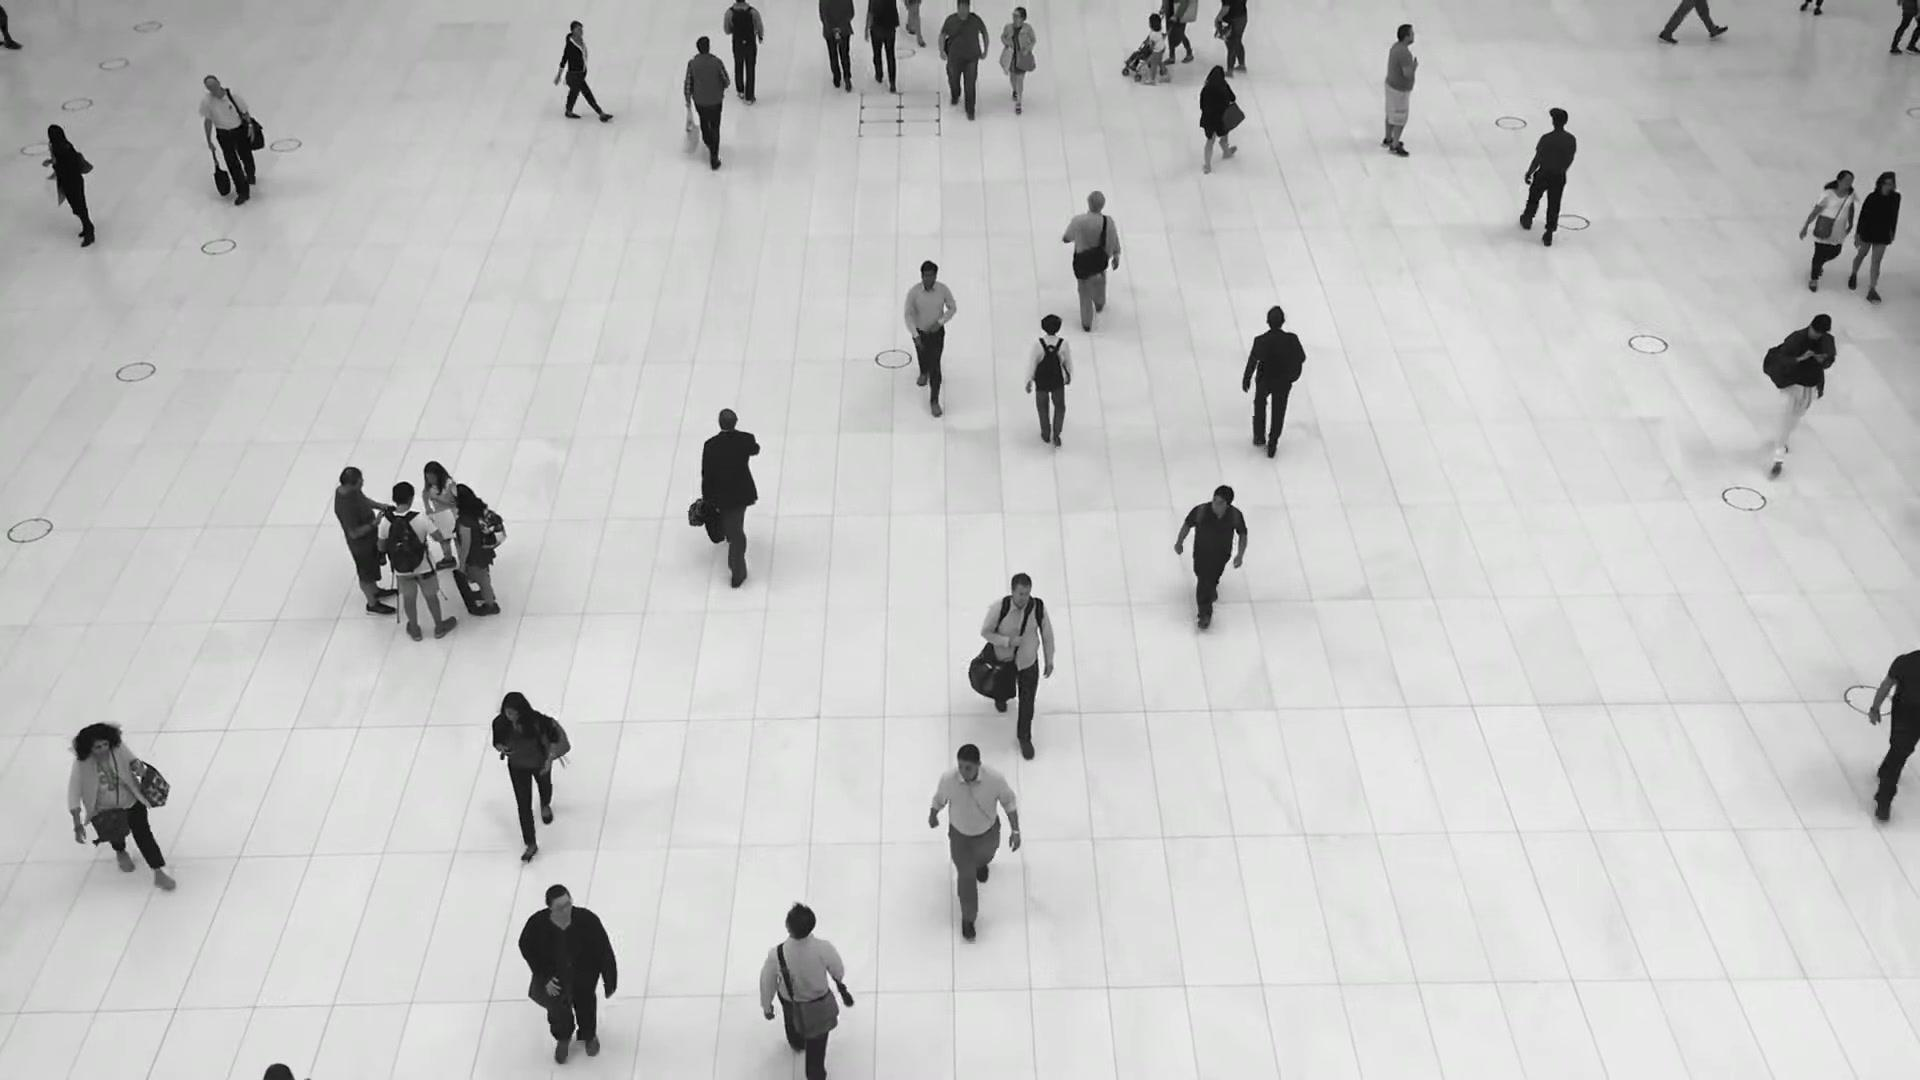person: (516, 883, 618, 1076), (927, 742, 1020, 936), (758, 904, 850, 1079), (65, 720, 159, 889), (1842, 588, 1919, 790), (979, 571, 1055, 754), (491, 690, 569, 861), (377, 481, 459, 641), (1760, 313, 1837, 477), (698, 408, 763, 590), (1172, 484, 1248, 633), (1242, 306, 1308, 463), (333, 466, 400, 615), (902, 258, 960, 415), (1061, 191, 1123, 336), (1518, 108, 1577, 251), (198, 74, 256, 204), (1847, 170, 1902, 305), (449, 483, 501, 617), (1799, 169, 1856, 291), (1024, 313, 1075, 448), (935, 0, 991, 119), (682, 36, 731, 173), (42, 124, 96, 247), (552, 20, 612, 124), (1381, 23, 1420, 157), (1197, 64, 1239, 177), (722, 0, 767, 105), (421, 460, 459, 580), (999, 5, 1038, 114), (817, 0, 856, 91), (864, 0, 900, 93), (1143, 12, 1170, 85)
